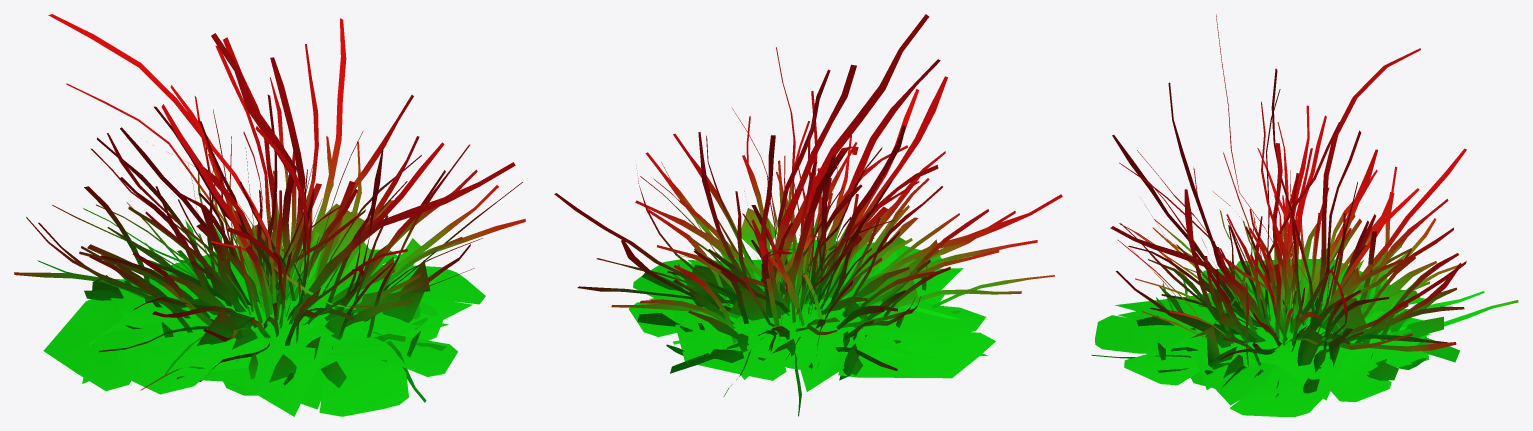
Rendered from Wild Grass_LOD2_Var11_vdilbaiia.fbx.
The picture shows the model from 3 angles, left to right: view 1: azimuth 30°, elevation 25°; view 2: azimuth 150°, elevation 25°; view 3: azimuth 270°, elevation 25°; orthographic projection. The views are drawn at different scales.
Visible parts, largest first — view 1: _lzih_Var11_LOD2; view 2: _lzih_Var11_LOD2; view 3: _lzih_Var11_LOD2.
Boxes of the visible parts, x1,y1,x2,y2 form: _lzih_Var11_LOD2: [14, 14, 525, 416]; _lzih_Var11_LOD2: [554, 14, 1062, 416]; _lzih_Var11_LOD2: [1091, 14, 1518, 416].
Size of the model in its own units: 87.97 by 69.65 by 91.52.
